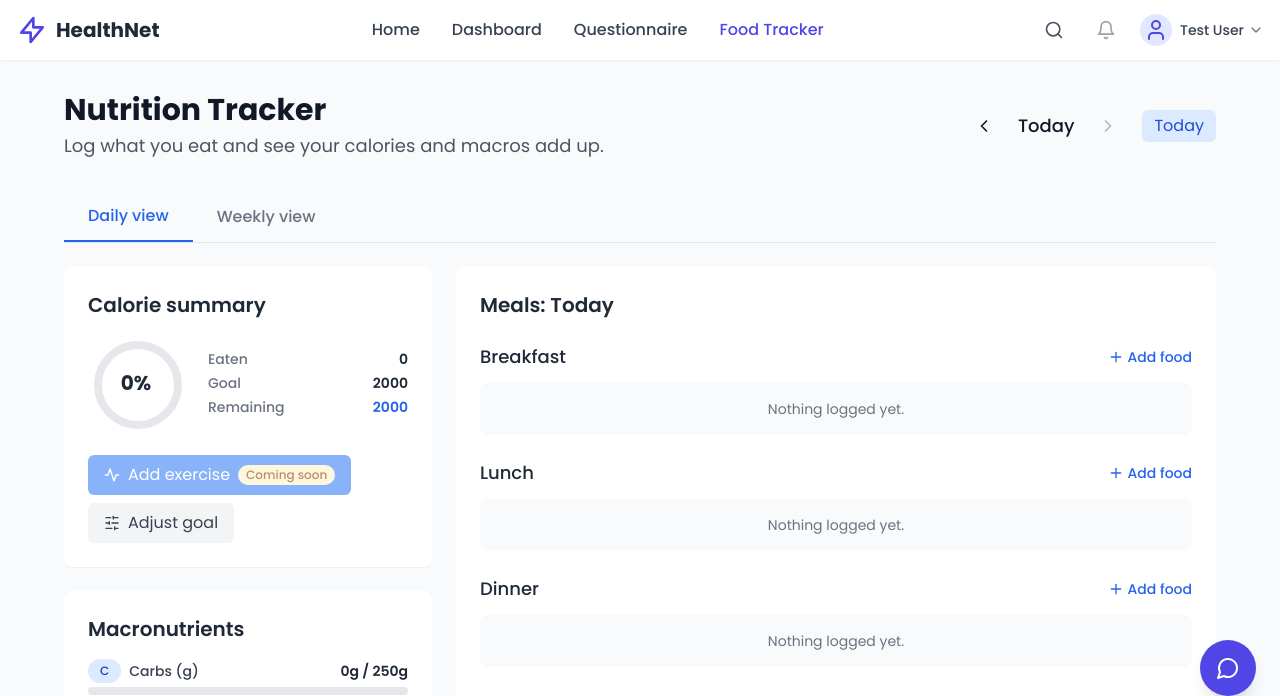
your own foods can be added and any entry removed
Click the button with aria-label "Add food to Dinner".
click(1150, 589)  # box [1108,579,1192,599]
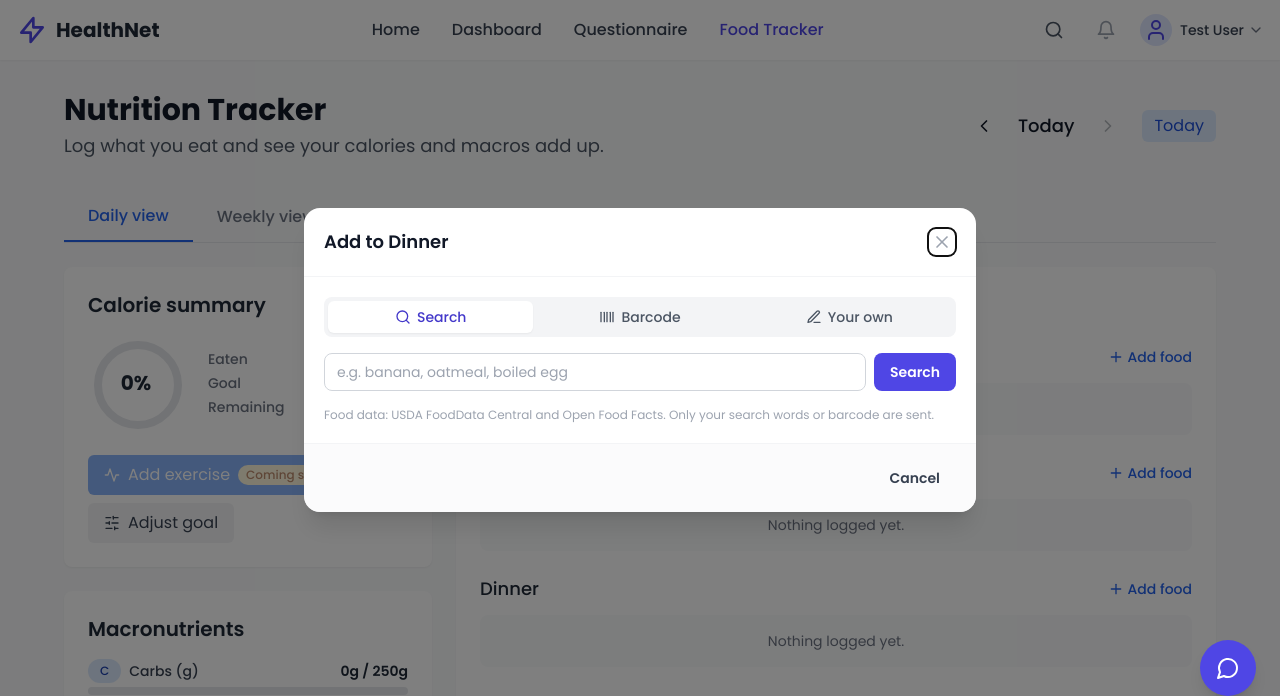
Click the tab "Your own".
click(849, 317)  # box [747,301,952,333]
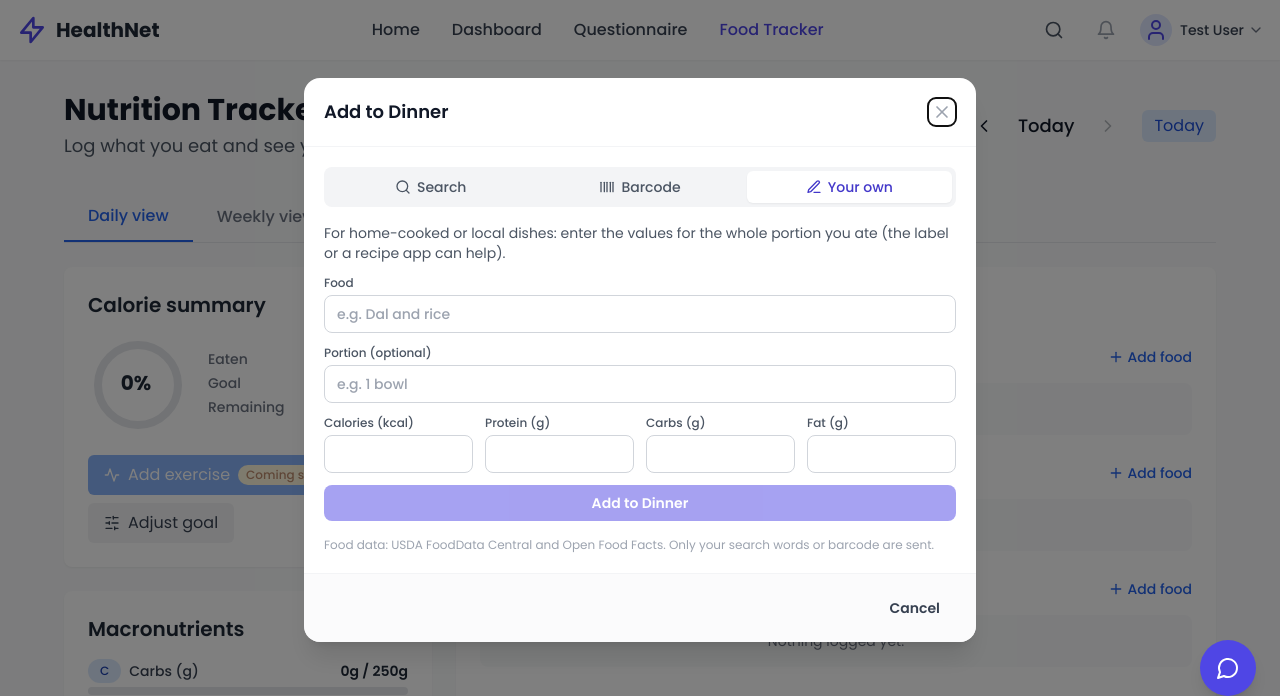
Type "Dal and rice" into the field labelled "Food".
click(640, 314); type("Dal and rice")  # box [324,295,956,333]
Type "1 bowl" into the field labelled "Portion (optional)".
click(640, 384); type("1 bowl")  # box [324,365,956,403]
Type "520" into the number field labelled "Calories (kcal)".
click(398, 454); type("520")  # box [324,435,473,473]
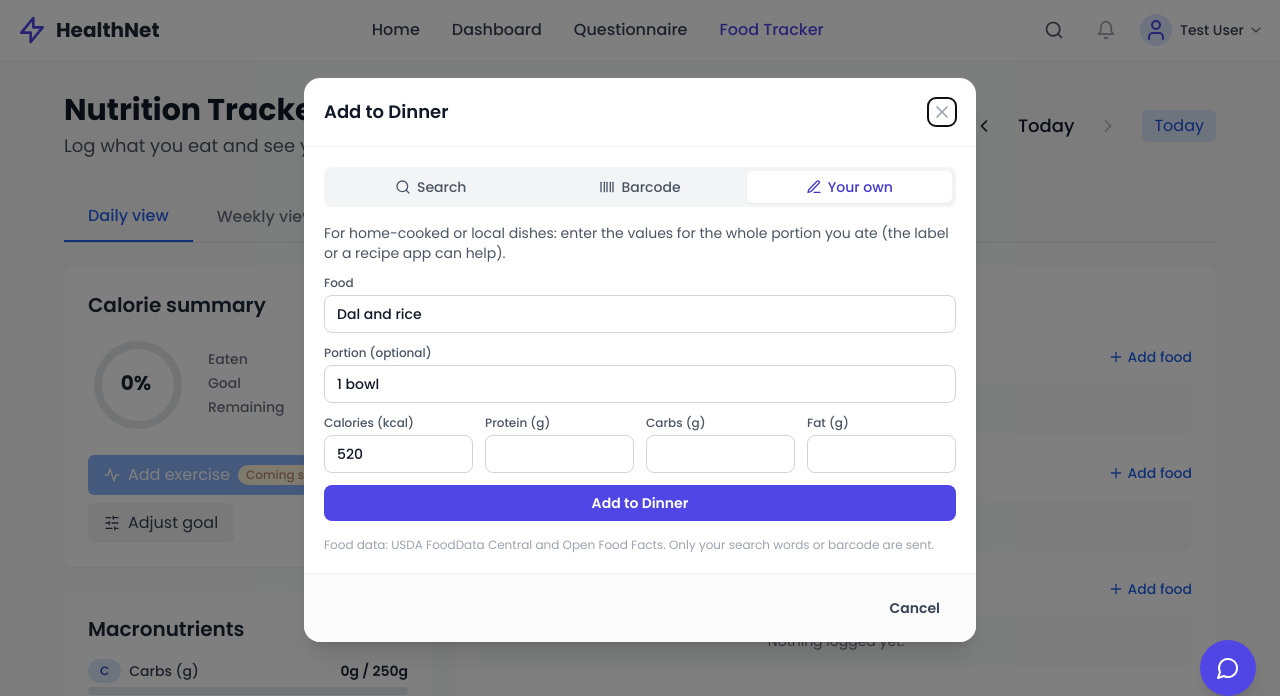
Type "18" into the number field labelled "Protein (g)".
click(560, 454); type("18")  # box [485,435,634,473]
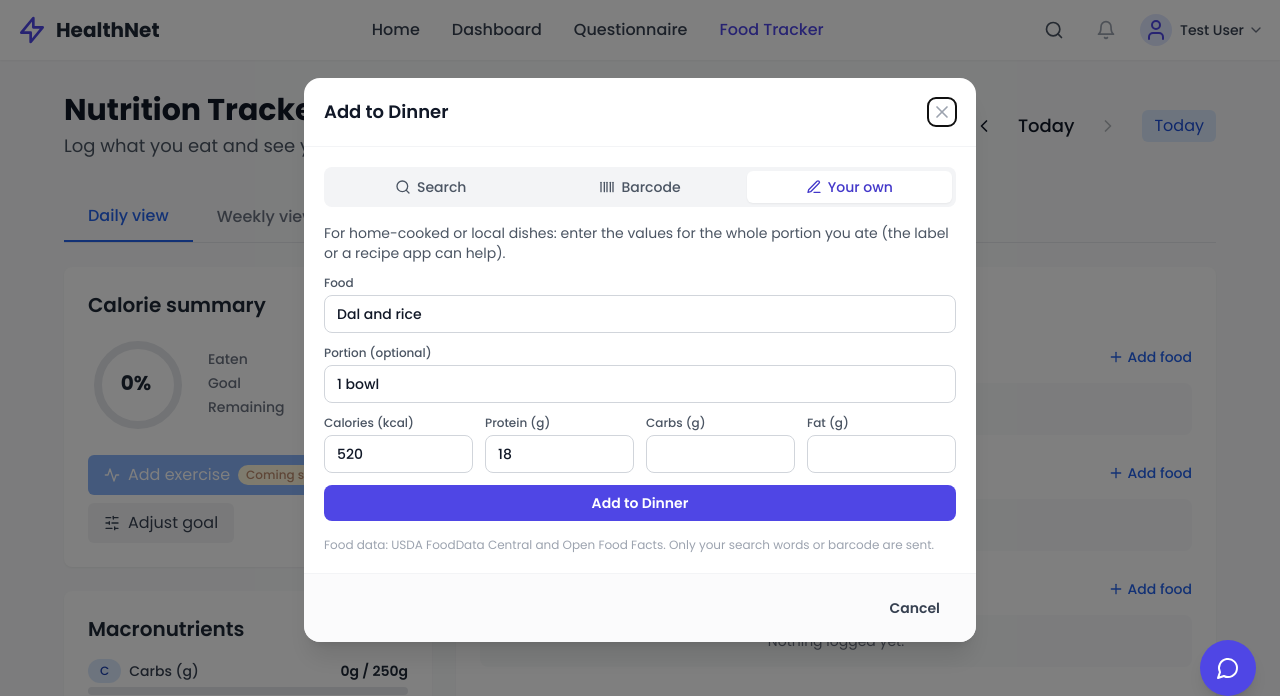
Click the button "Add to Dinner".
click(640, 503)  # box [324,485,956,521]
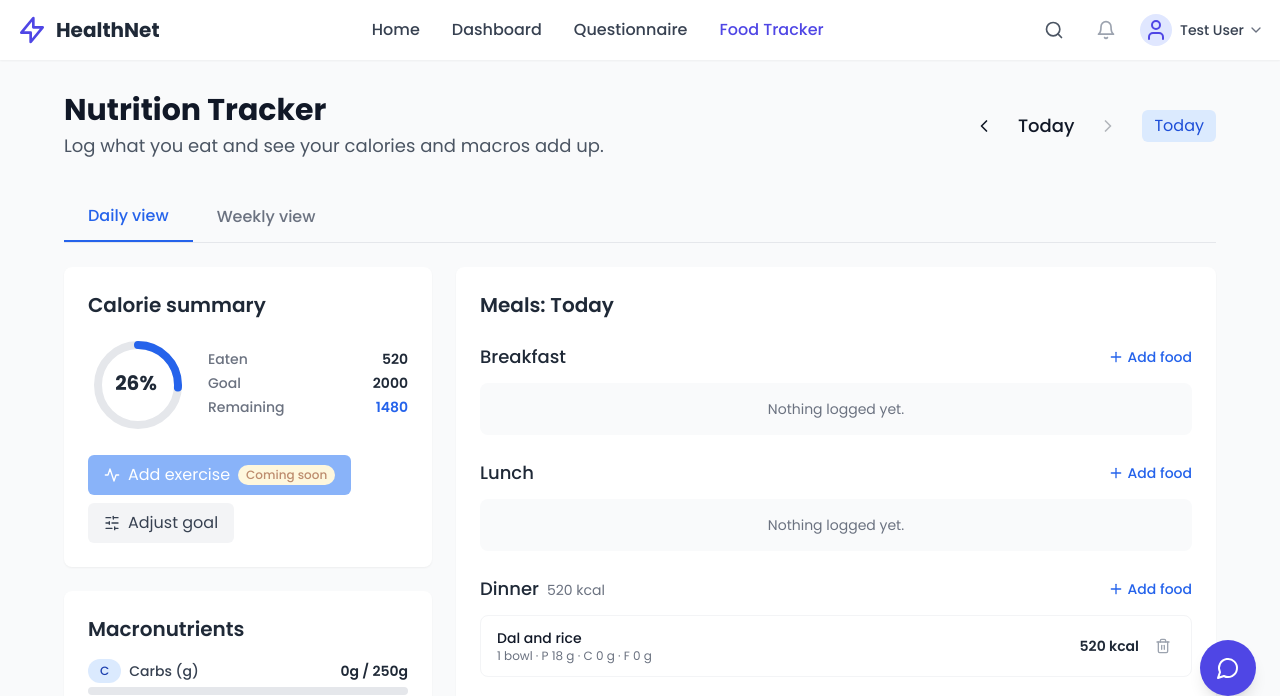
Check: the text "Dal and rice" is shown, box [497,628,582,648]
Click the button named "Remove Dal and rice".
click(1163, 646)  # box [1151,634,1175,658]
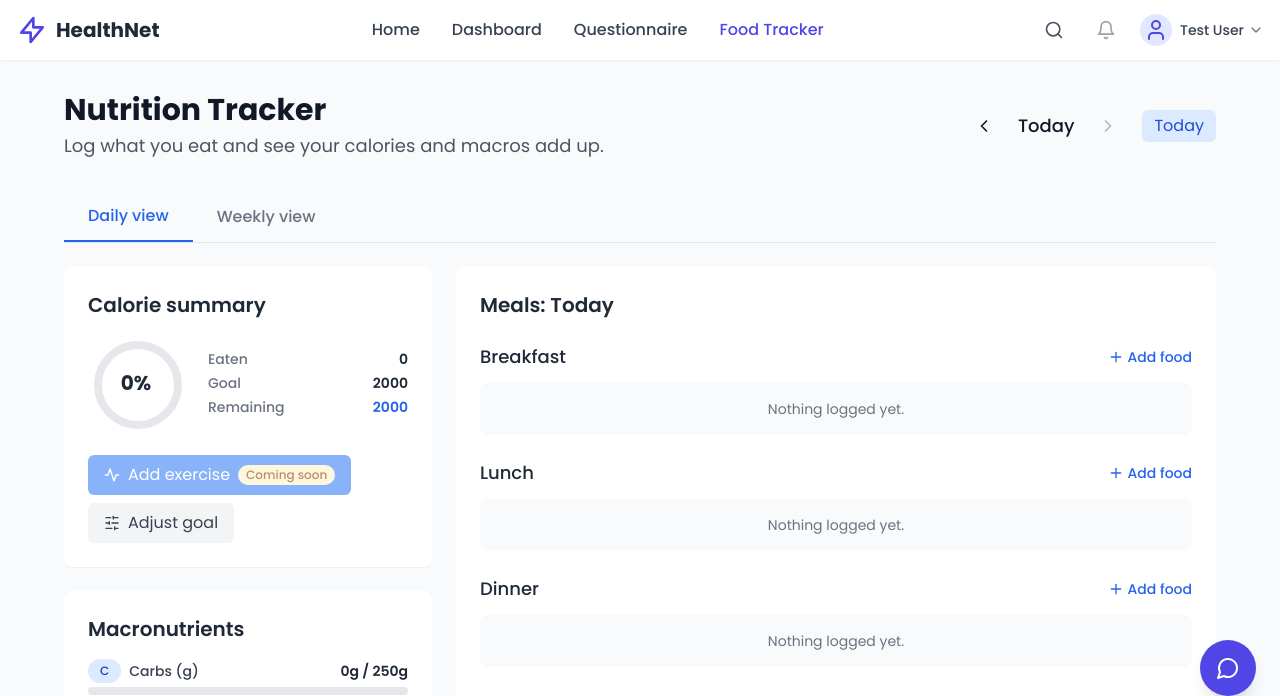
Check: the text "Nothing logged yet." below "Dinner" is shown, box [768,631,904,651]
